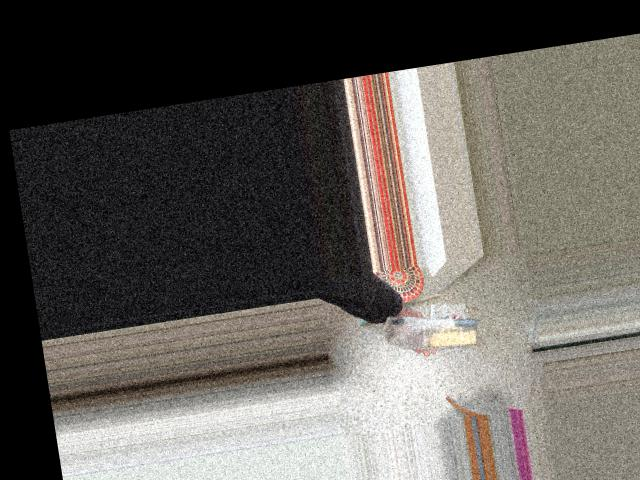cheese: (385, 304, 481, 359)
